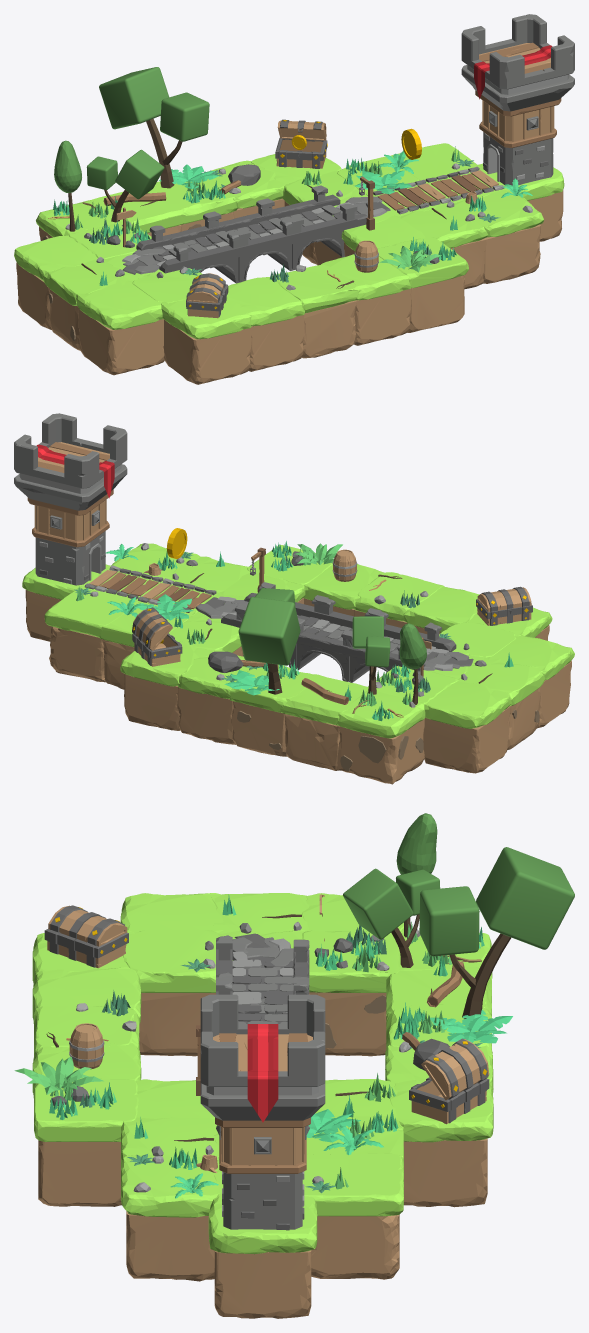
The picture shows the model from 3 angles, top to bottom: view 1: azimuth 30°, elevation 25°; view 2: azimuth 150°, elevation 25°; view 3: azimuth 270°, elevation 25°; orthographic projection. The views are drawn at different scales.
Visible parts, largest first — view 1: TowerV1, TreeV3_004, Bridge_002_2, Tile_Bot_Part_22, Tile_Bot_Part_7, Bridge_002, Bridge_002_1, Tile_Top_Part_7, TreeV3_004_1, Tile_Bot_Part_9, Tile_Top_Part_6, Tile_Bot_Part (+43 smaller); view 2: TowerV1, TreeV3_004, Tile_Bot_Part_10, Tile_Bot_Part_24, Tile_Top_Part_10, Bridge_002_1, Tile_Top_Part_24, Tile_Top_Part_12, Tile_Bot_Part_18, Tile_Bot_Part_5, Tile_Bot_Part_13, Tile_Bot_Part_12 (+44 smaller); view 3: TowerV1, TreeV3_004, Tile_Bot_Part_21, Tile_Top_Part_12, Tile_Bot_Part_5, Tile_Bot_Part_9, Tile_Bot_Part_12, Tile_Bot_Part_14, Tile_Top_Part_20, Tile_Top_Part_14, TreeV3_004_1, Tile_Top_Part_9 (+34 smaller).
Boxes of the visible parts, <box> form: TowerV1: <box>461,14,574,185</box>; TreeV3_004: <box>99,67,209,188</box>; Bridge_002_2: <box>246,185,367,269</box>; Tile_Bot_Part_22: <box>163,319,251,384</box>; Tile_Bot_Part_7: <box>78,307,164,375</box>; Bridge_002: <box>136,211,258,283</box>; Bridge_002_1: <box>193,198,311,281</box>; Tile_Top_Part_7: <box>76,280,163,329</box>; TreeV3_004_1: <box>86,149,164,222</box>; Tile_Bot_Part_9: <box>482,224,540,283</box>; Tile_Top_Part_6: <box>226,277,305,326</box>; Tile_Bot_Part: <box>354,288,411,345</box>; TowerV1: <box>14,413,127,585</box>; TreeV3_004: <box>238,588,300,694</box>; Tile_Bot_Part_10: <box>423,706,510,773</box>; Tile_Bot_Part_24: <box>337,719,424,784</box>; Tile_Top_Part_10: <box>424,681,511,728</box>; Bridge_002_1: <box>294,595,399,681</box>; Tile_Top_Part_24: <box>337,690,425,738</box>; Tile_Top_Part_12: <box>44,586,137,637</box>; Tile_Bot_Part_18: <box>177,687,235,744</box>; Tile_Bot_Part_5: <box>124,673,180,730</box>; Tile_Bot_Part_13: <box>285,714,339,770</box>; Tile_Bot_Part_12: <box>49,626,105,682</box>; TowerV1: <box>200,994,325,1230</box>; TreeV3_004: <box>419,847,574,1018</box>; Tile_Bot_Part_21: <box>214,1250,311,1318</box>; Tile_Top_Part_12: <box>302,1153,403,1216</box>; Tile_Bot_Part_5: <box>403,1138,487,1207</box>; Tile_Bot_Part_9: <box>126,1211,214,1281</box>; Tile_Bot_Part_12: <box>311,1214,399,1279</box>; Tile_Bot_Part_14: <box>38,1140,121,1206</box>; Tile_Top_Part_20: <box>123,930,220,992</box>; Tile_Top_Part_14: <box>34,1078,138,1141</box>; TreeV3_004_1: <box>343,868,440,967</box>; Tile_Top_Part_9: <box>121,1154,221,1217</box>.
Bounding box in the file's own units: 9.35 × 3.5 × 6.37.
Materials: 1 (1 with a texture image).
